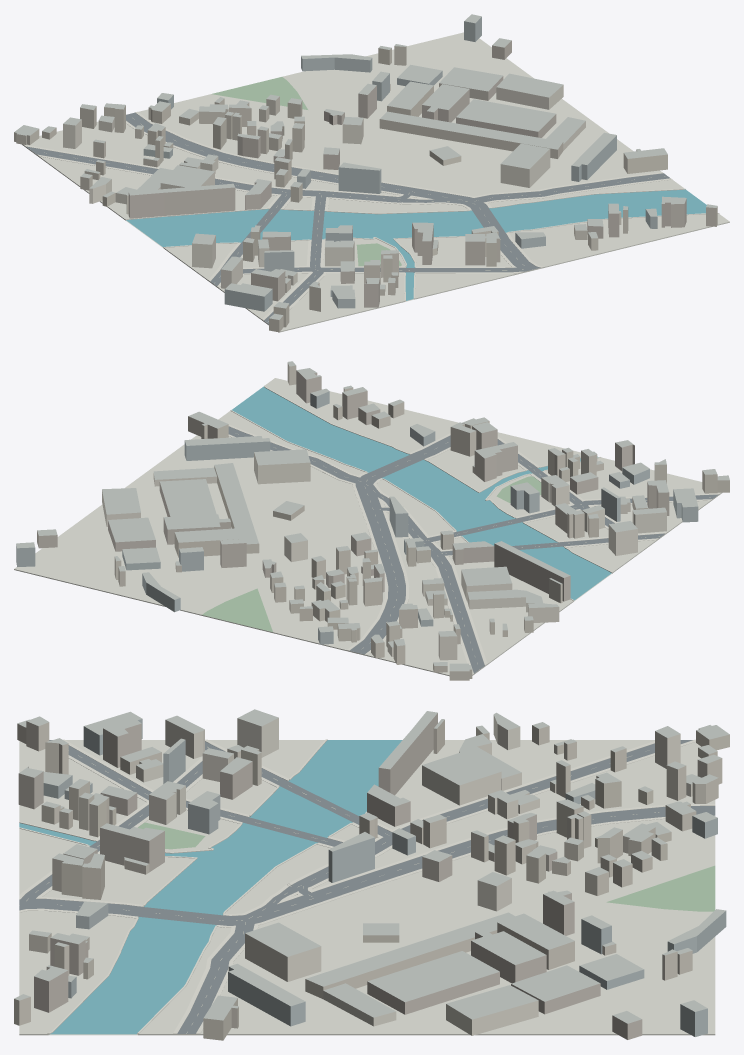
3 views of the same model, one above another, from view 1: azimuth 30°, elevation 25°; view 2: azimuth 150°, elevation 25°; view 3: azimuth 270°, elevation 25° (orthographic). The views are drawn at different scales.
Visible parts, largest first — view 1: city; view 2: city; view 3: city.
Part boxes in pixels (<box>): city: <box>14,14,729,332</box>; city: <box>14,361,729,680</box>; city: <box>14,709,729,1040</box>.
Size of the model in its own units: 525 by 26 by 515.
